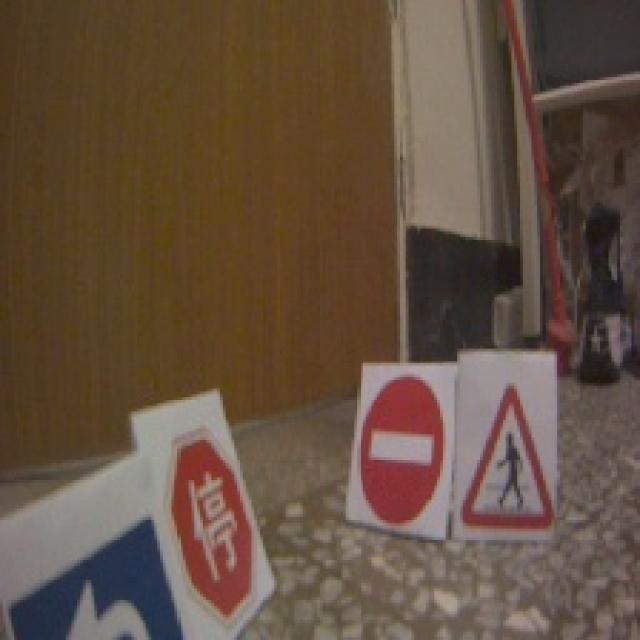DoNotEnterSign: (359, 376, 444, 526)
